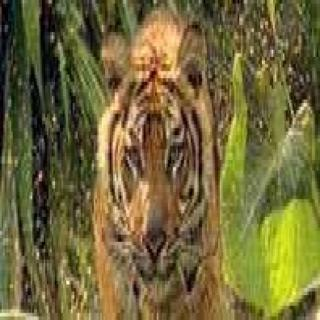Tiger: (85, 2, 231, 320)
